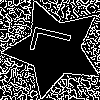L: (29, 24, 82, 62)
